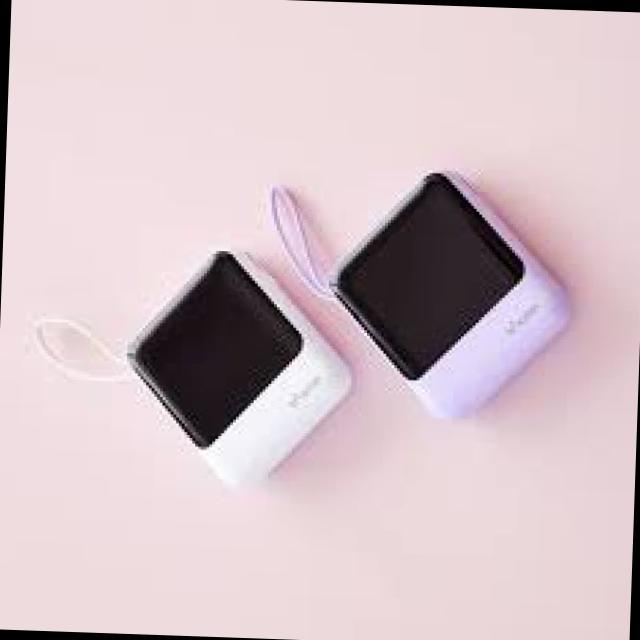portable-charger: (316, 150, 581, 422), (123, 243, 363, 497)
